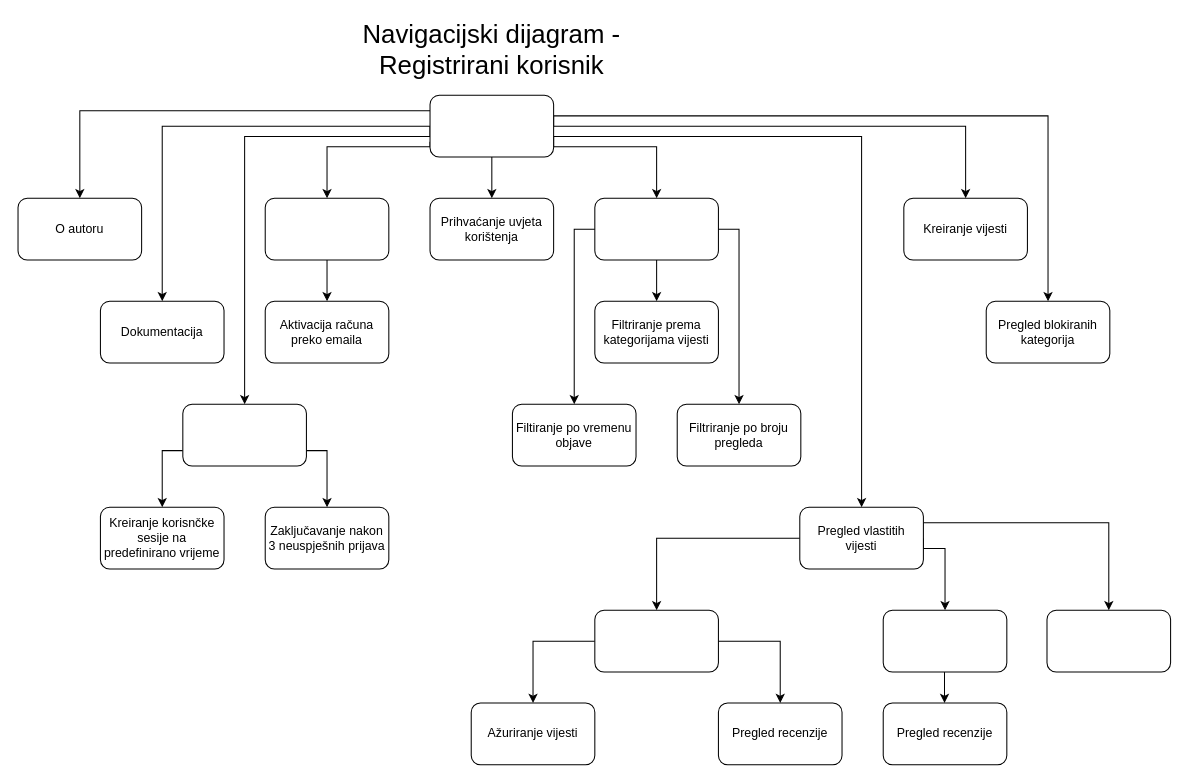
The diagram is 1189 pixels wide and 783 high, and some of its shapes have lost their labels. The shapes that lost their labels are listed below. From the top down, each one's centre as x and y in pixels, then its label:
the point at 491,125: Početna
the point at 326,228: Registracija
the point at 656,228: Pregled vijesti
the point at 244,434: Prijava
the point at 656,640: Pregled vijesti koje je kreirao
the point at 944,640: Pregled vijesti u kojima je naved kao autor
the point at 1108,640: Pregled podataka i statistik
